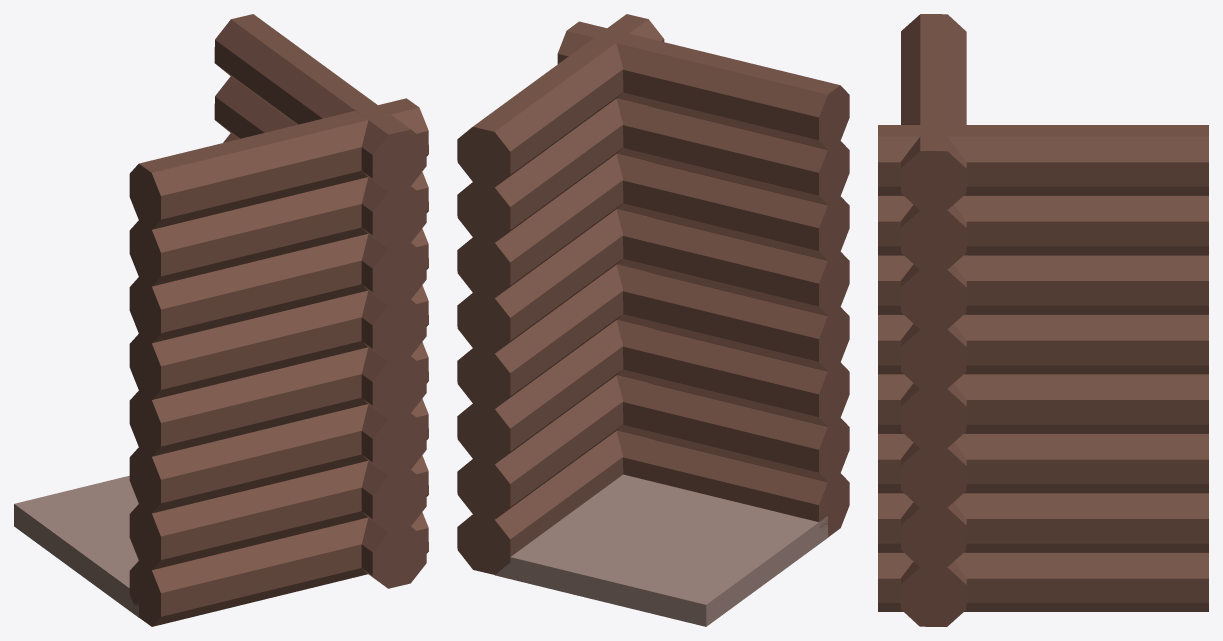
The model's file is Wall_Corner(1).fbx.
The picture shows the model from 3 angles, left to right: view 1: azimuth 30°, elevation 25°; view 2: azimuth 150°, elevation 25°; view 3: azimuth 270°, elevation 25°; orthographic projection. The views are drawn at different scales.
Visible parts, largest first — view 1: pasted__pasted__pCube81; view 2: pasted__pasted__pCube81; view 3: pasted__pasted__pCube81.
Boxes of the visible parts, x1=… form: pasted__pasted__pCube81: x1=14, y1=14, x2=428, y2=626; pasted__pasted__pCube81: x1=457, y1=14, x2=849, y2=626; pasted__pasted__pCube81: x1=878, y1=14, x2=1208, y2=626.
Size of the model in its own units: 1.24 by 2.01 by 1.26.
Materials: 1 (1 with a texture image).
